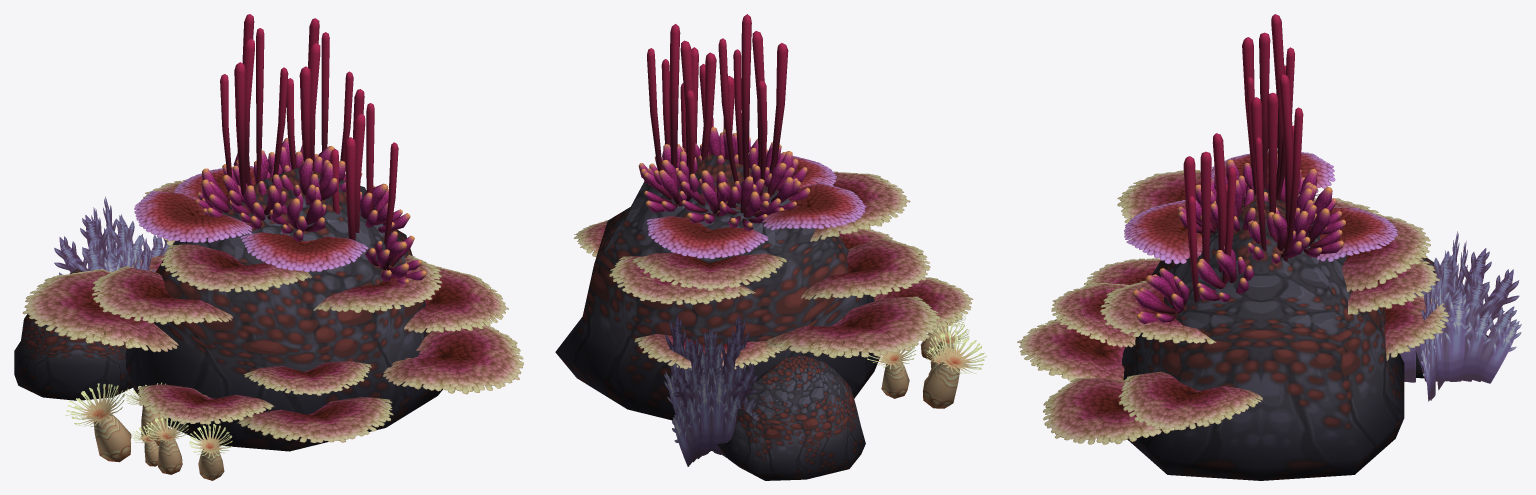
The model's file is CoralSet_08.FBX.
The picture shows the model from 3 angles, left to right: view 1: azimuth 30°, elevation 25°; view 2: azimuth 150°, elevation 25°; view 3: azimuth 270°, elevation 25°; orthographic projection. The views are drawn at different scales.
Visible parts, largest first — view 1: Set_08_Part22, Set_08, Set_08_Part20, Set_08_Part18, Set_08_Part19, Set_08_Part023, Set_08_Part17, Set_08_Part14, Set_08_Part02, Set_08_Part06, Set_08_Part21, Set_08_Part01 (+6 smaller); view 2: Set_08, Set_08_Part22, Set_08_Part023, Set_08_Part20, Set_08_Part18, Set_08_Part19, Set_08_Part14, Set_08_Part03, Set_08_Part10, Set_08_Part04, Set_08_Part05, Set_08_Part17 (+6 smaller); view 3: Set_08, Set_08_Part22, Set_08_Part023, Set_08_Part20, Set_08_Part19, Set_08_Part17, Set_08_Part18, Set_08_Part02, Set_08_Part16, Set_08_Part10, Set_08_Part15, Set_08_Part03 (+2 smaller).
Part boxes in pixels (left/top/right/bottom): Set_08_Part22: left=22, top=178, right=523, bottom=442; Set_08: left=14, top=167, right=442, bottom=451; Set_08_Part20: left=134, top=166, right=368, bottom=271; Set_08_Part18: left=220, top=14, right=288, bottom=197; Set_08_Part19: left=286, top=18, right=353, bottom=180; Set_08_Part023: left=54, top=196, right=172, bottom=274; Set_08_Part17: left=330, top=89, right=398, bottom=245; Set_08_Part14: left=65, top=383, right=131, bottom=462; Set_08_Part02: left=365, top=231, right=426, bottom=283; Set_08_Part06: left=229, top=174, right=287, bottom=229; Set_08_Part21: left=269, top=187, right=326, bottom=241; Set_08_Part01: left=281, top=158, right=337, bottom=204; Set_08: left=555, top=154, right=880, bottom=480; Set_08_Part22: left=574, top=171, right=973, bottom=371; Set_08_Part023: left=664, top=314, right=758, bottom=466; Set_08_Part20: left=646, top=156, right=865, bottom=258; Set_08_Part18: left=718, top=14, right=788, bottom=196; Set_08_Part19: left=647, top=24, right=716, bottom=180; Set_08_Part14: left=923, top=330, right=986, bottom=408; Set_08_Part03: left=680, top=170, right=740, bottom=223; Set_08_Part10: left=643, top=159, right=699, bottom=212; Set_08_Part04: left=719, top=176, right=780, bottom=231; Set_08_Part05: left=750, top=162, right=810, bottom=213; Set_08_Part17: left=669, top=47, right=734, bottom=154; Set_08: left=1122, top=188, right=1487, bottom=480; Set_08_Part22: left=1017, top=170, right=1449, bottom=444; Set_08_Part023: left=1400, top=231, right=1521, bottom=401; Set_08_Part20: left=1124, top=151, right=1397, bottom=264; Set_08_Part19: left=1250, top=74, right=1303, bottom=261; Set_08_Part17: left=1183, top=133, right=1236, bottom=302; Set_08_Part18: left=1242, top=14, right=1294, bottom=200; Set_08_Part02: left=1133, top=268, right=1189, bottom=323; Set_08_Part16: left=1196, top=246, right=1254, bottom=301; Set_08_Part10: left=1285, top=200, right=1343, bottom=257; Set_08_Part15: left=1247, top=207, right=1305, bottom=263; Set_08_Part03: left=1296, top=182, right=1345, bottom=235.
Bounding box in the file's own units: 71.77 × 62.3 × 71.5.
